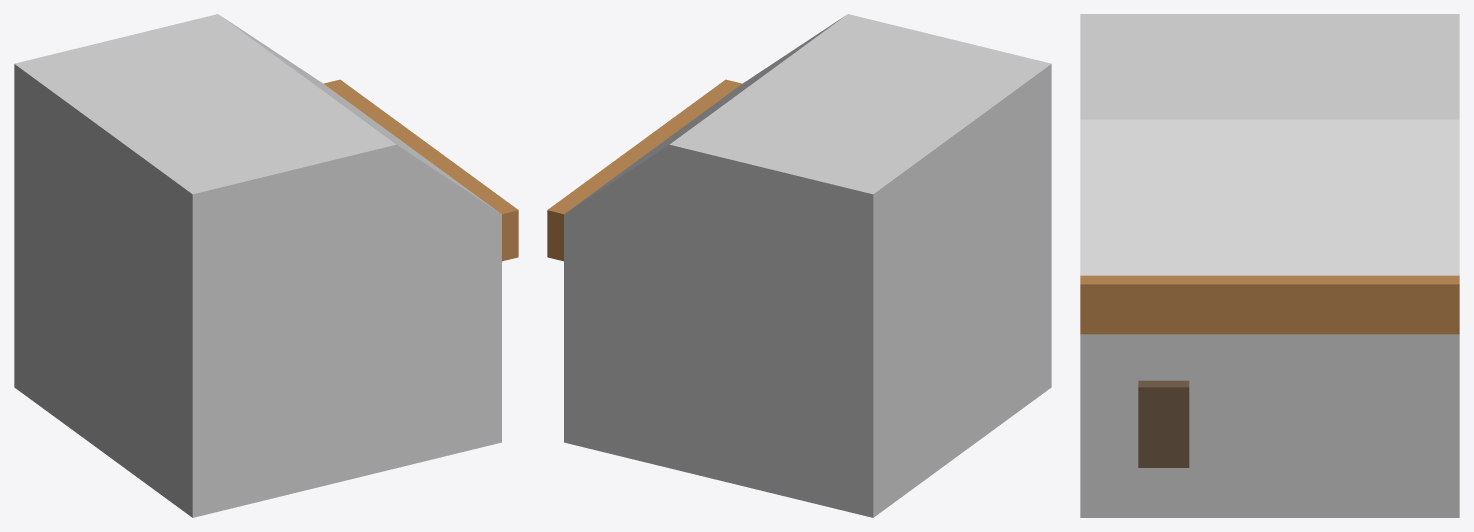
The model's file is Device1.glb.
The picture shows the model from 3 angles, left to right: view 1: azimuth 30°, elevation 25°; view 2: azimuth 150°, elevation 25°; view 3: azimuth 270°, elevation 25°; orthographic projection. The views are drawn at different scales.
Parts seen in each view (by area): view 1: 立方体.001; view 2: 立方体.001; view 3: 立方体.001, 立方体.003.
Part boxes in pixels (<box>): 立方体.001: <box>14,14,518,517</box>; 立方体.001: <box>547,14,1051,517</box>; 立方体.001: <box>1080,14,1459,517</box>; 立方体.003: <box>1108,351,1431,492</box>.
Bounding box in the file's own units: 0.1055 × 0.1 × 0.1.
